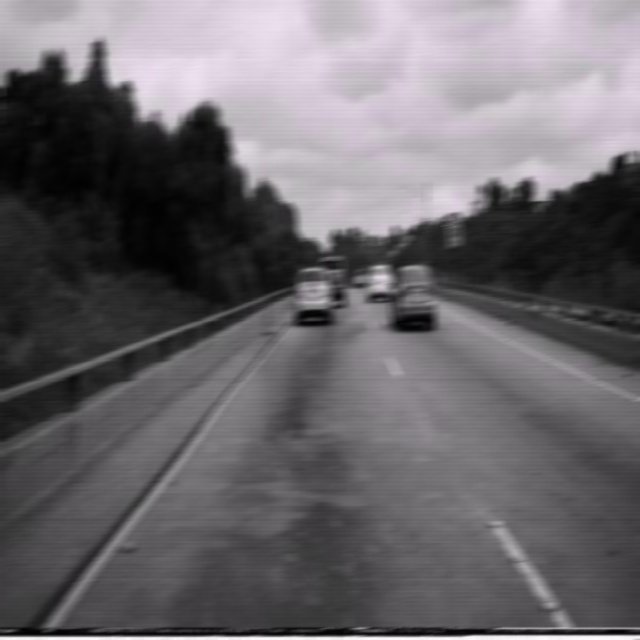rampSpeedAdvisory20: (448, 209, 463, 249)
